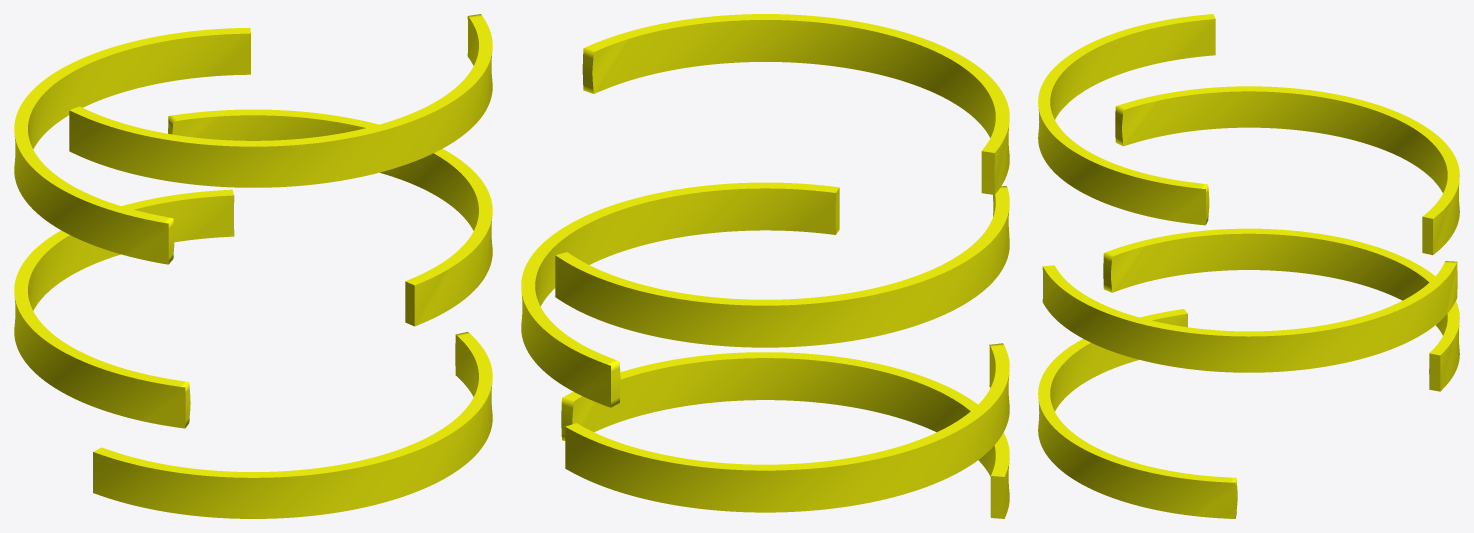
Rendered from crystalCircle.fbx.
3 views of the same model, side by side, from view 1: azimuth 30°, elevation 25°; view 2: azimuth 150°, elevation 25°; view 3: azimuth 270°, elevation 25° (orthographic). The views are drawn at different scales.
Parts seen in each view (by area): view 1: кристалы_Cube.000; view 2: кристалы_Cube.000; view 3: кристалы_Cube.000.
Part boxes in pixels (box(x1,y1,x2,y2)): кристалы_Cube.000: box(14, 14, 492, 518); кристалы_Cube.000: box(521, 14, 1009, 518); кристалы_Cube.000: box(1038, 14, 1459, 518).
Size of the model in its own units: 2.65 by 2.27 by 2.65.
